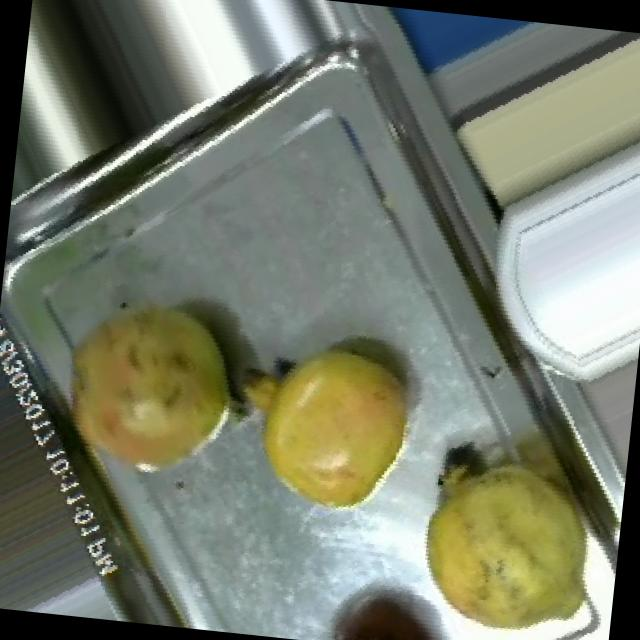fruit: (22, 265, 276, 516), (386, 426, 628, 640), (224, 316, 440, 540), (296, 609, 457, 640)
